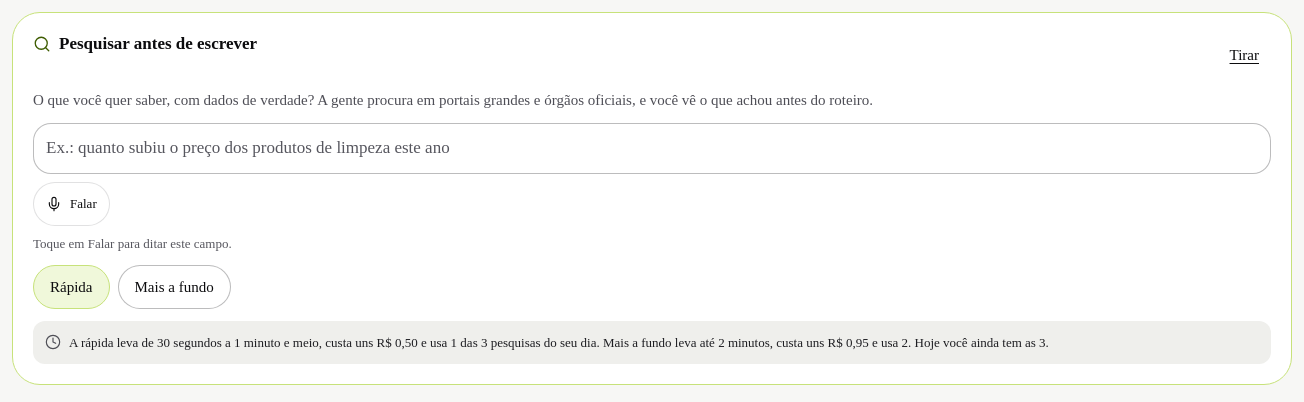
Test: CampoPesquisar › 'Tirar' fecha o campo
Click the button "Tirar" at (1244, 55), box left=1218, top=33, right=1271, bottom=77
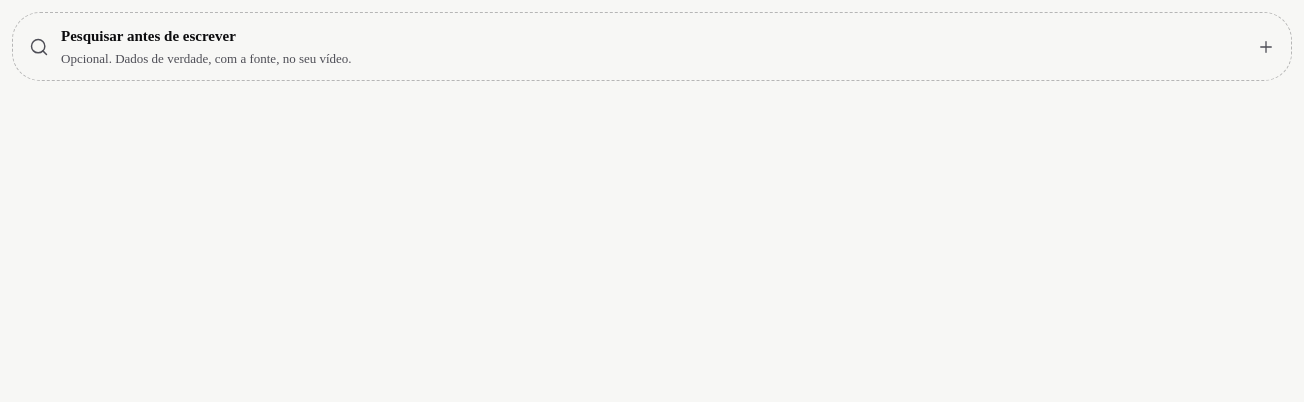
expect the button "Pesquisar antes de escrever" is shown: met, box left=12, top=12, right=1292, bottom=81
